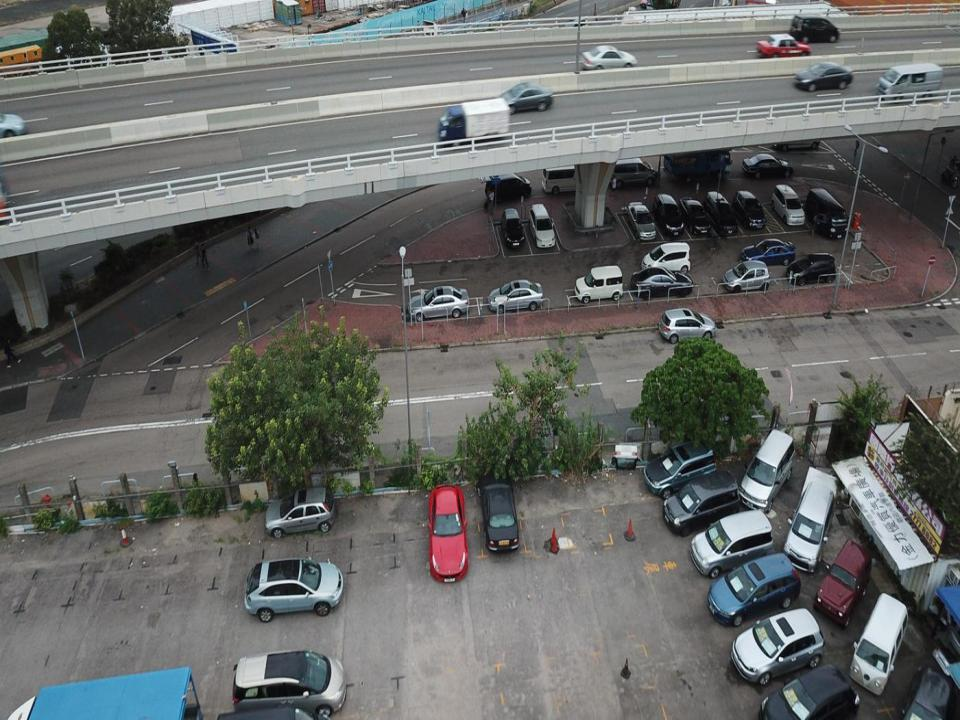car: (227, 650, 346, 716), (730, 608, 828, 686), (238, 553, 345, 621), (707, 552, 801, 629), (688, 504, 775, 576), (759, 663, 860, 719), (662, 468, 740, 538), (422, 478, 472, 583), (644, 440, 719, 500), (258, 482, 335, 538), (476, 467, 522, 556), (406, 282, 470, 324), (630, 261, 691, 300), (659, 307, 715, 347), (570, 263, 622, 306), (488, 276, 544, 314), (790, 61, 854, 93), (783, 249, 834, 288), (535, 158, 588, 195), (503, 78, 556, 114), (610, 158, 662, 194), (641, 238, 689, 276), (525, 197, 558, 252), (772, 181, 807, 232), (580, 40, 634, 73), (755, 33, 808, 65), (730, 184, 767, 228), (738, 154, 794, 183), (792, 10, 842, 42), (726, 256, 770, 292), (485, 172, 531, 204), (623, 200, 657, 243), (706, 189, 736, 237), (678, 194, 710, 236), (656, 191, 684, 233), (501, 202, 525, 247)
truck: (6, 668, 208, 719), (440, 95, 510, 143)
van: (849, 591, 908, 695), (813, 531, 868, 623), (741, 426, 795, 514), (783, 478, 836, 565), (876, 60, 940, 102), (807, 179, 846, 240)
